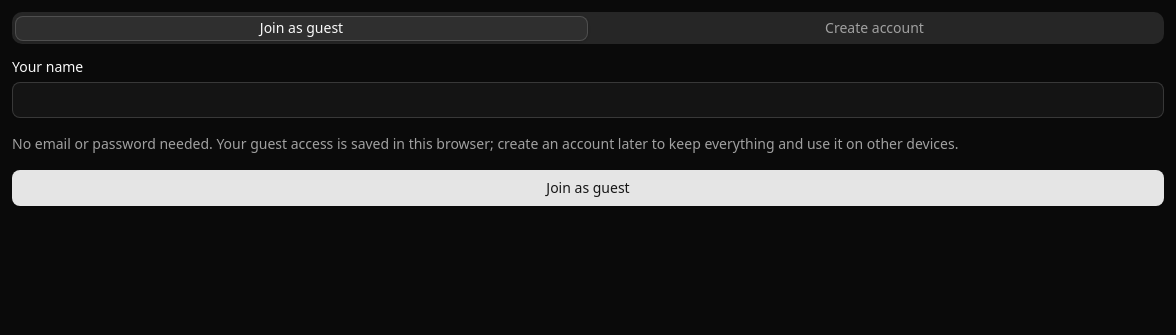
it: JoinForm › switches to creating an account
Click the tab "Create account". click: (874, 28)
box: x1=588 y1=16 x2=1161 y2=40
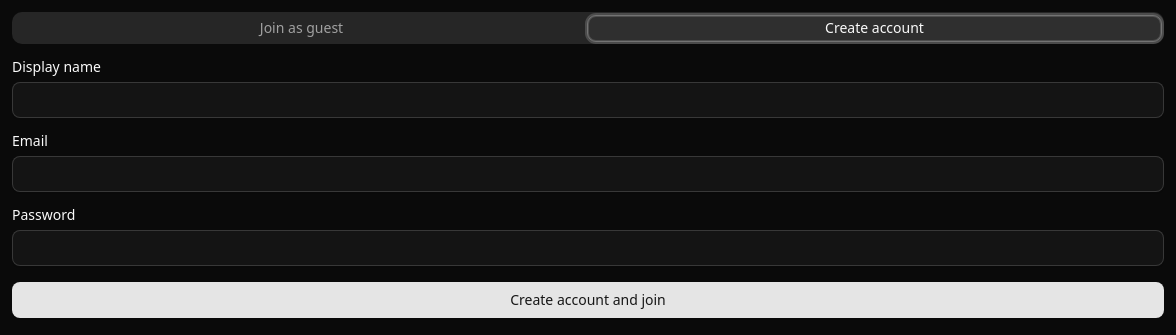
Expected: the field labelled "Email" is shown, x1=12 y1=156 x2=1164 y2=192
Expected: the password field labelled "Password" is shown, x1=12 y1=230 x2=1164 y2=266
Expected: the button "Create account and join" is shown, x1=12 y1=282 x2=1164 y2=318
